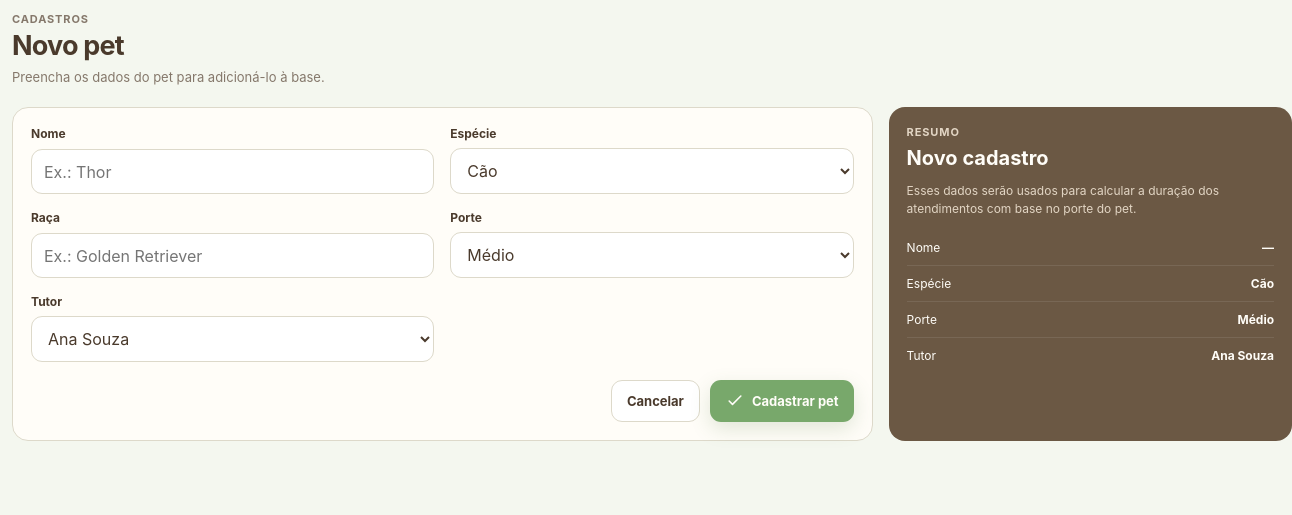
Test case: UI | NovoPetForm › deve enviar os dados corretos ao submeter e limpar nome/raça, mantendo a mensagem de sucesso
Type "Thor" into the field labelled "Nome". click: (233, 172)
box: x1=31 y1=149 x2=434 y2=194
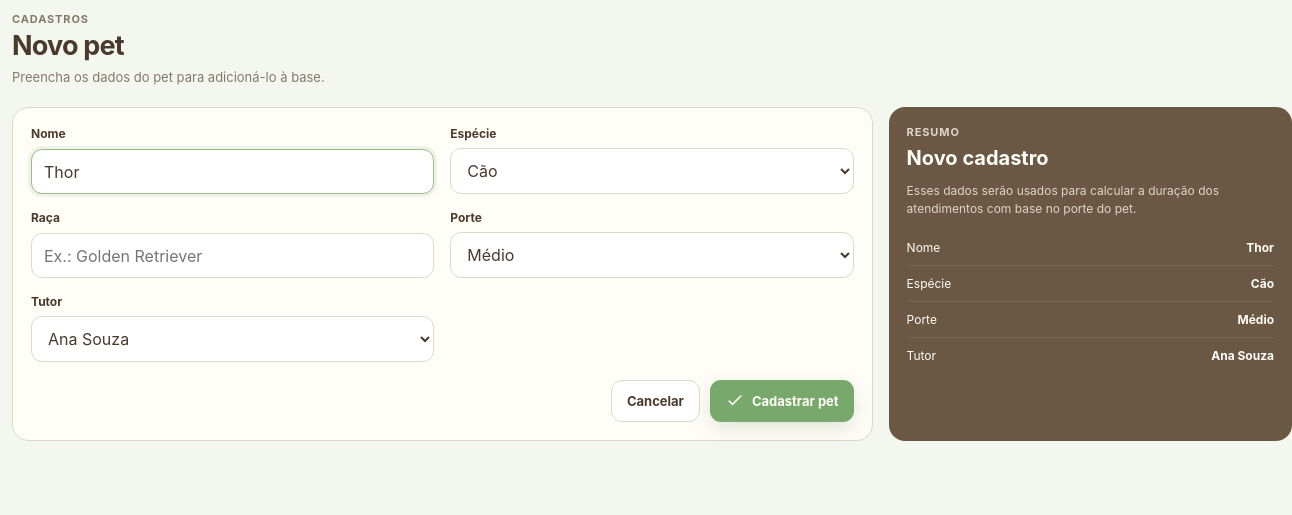
Select "Cão" in the dropdown labelled "Espécie". click: (652, 171)
box: x1=450 y1=148 x2=854 y2=194
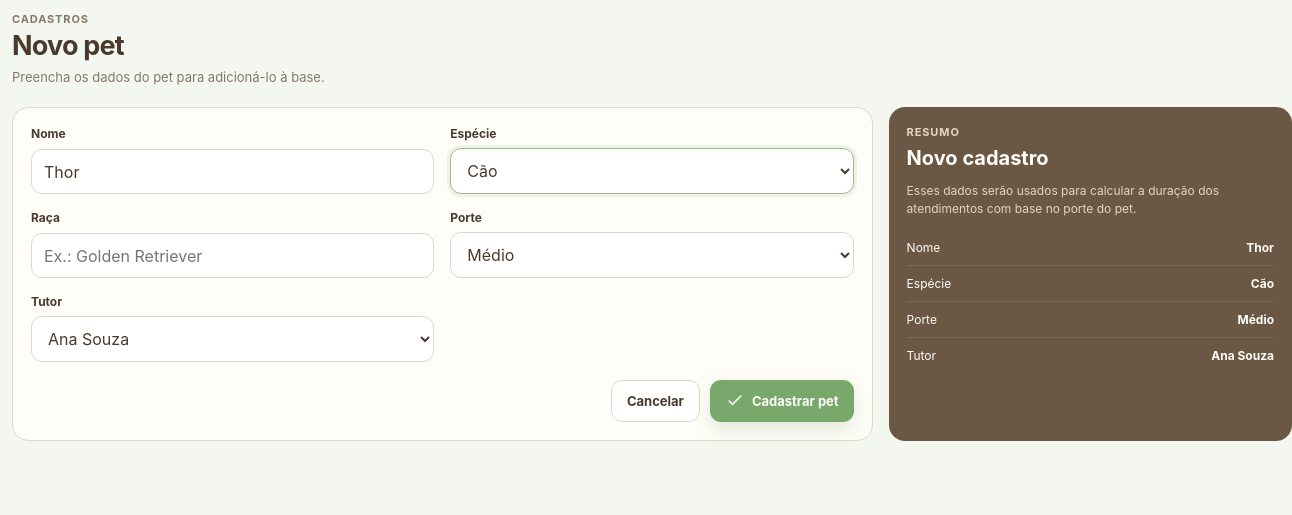
Type "Golden Retriever" into the field labelled "Raça". click: (233, 256)
box: x1=31 y1=233 x2=434 y2=278
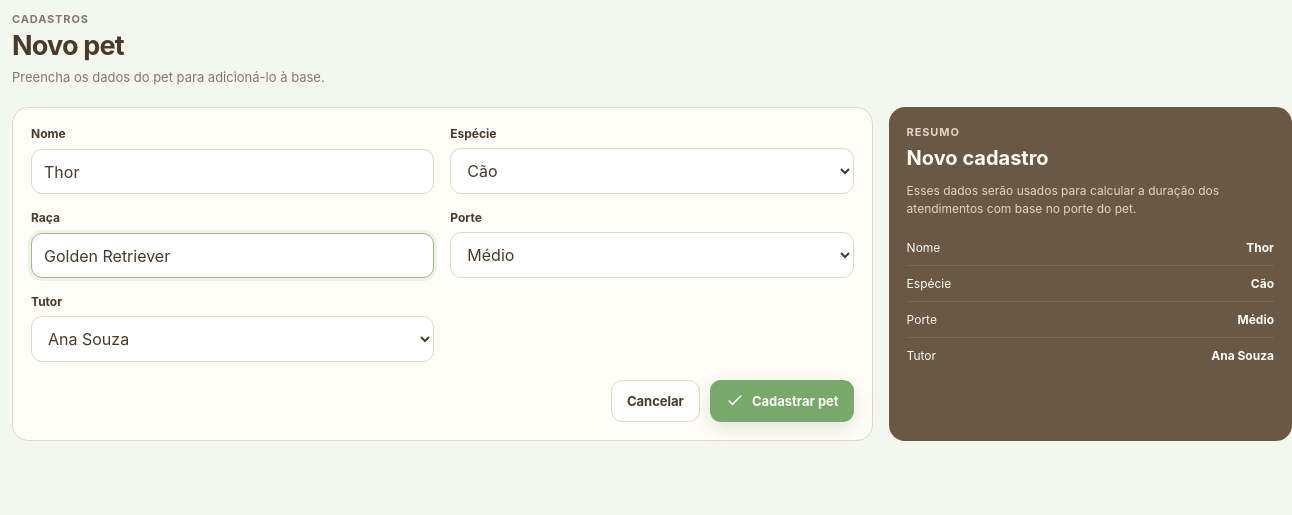
Select "Grande" in the dropdown labelled "Porte". click: (652, 255)
box: x1=450 y1=232 x2=854 y2=278
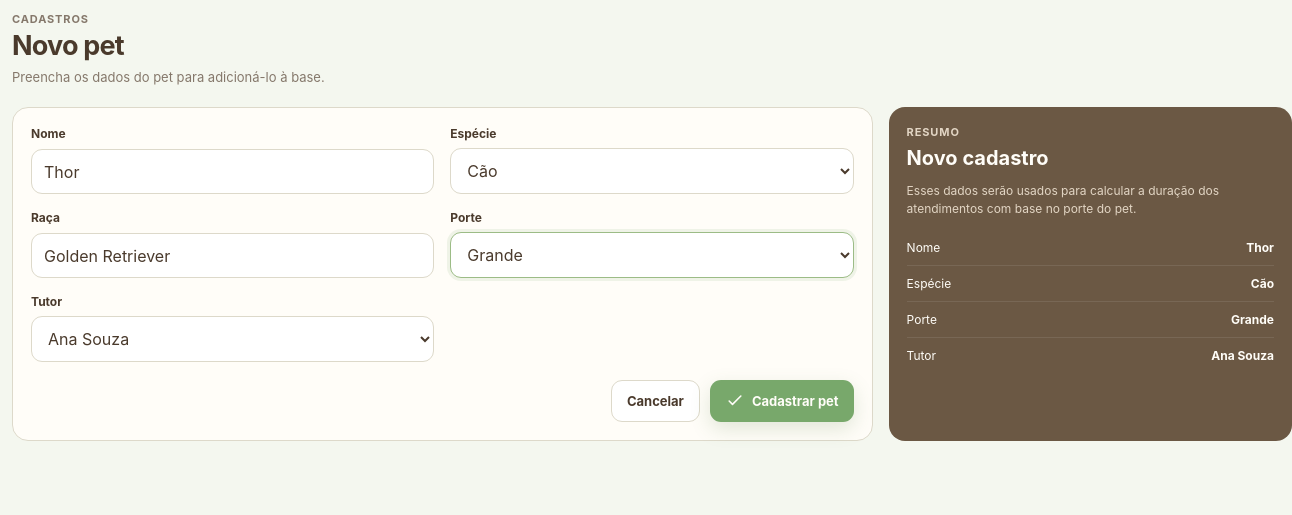
Select "Bruno Lima" in the dropdown labelled "Tutor". click: (233, 339)
box: x1=31 y1=316 x2=434 y2=362
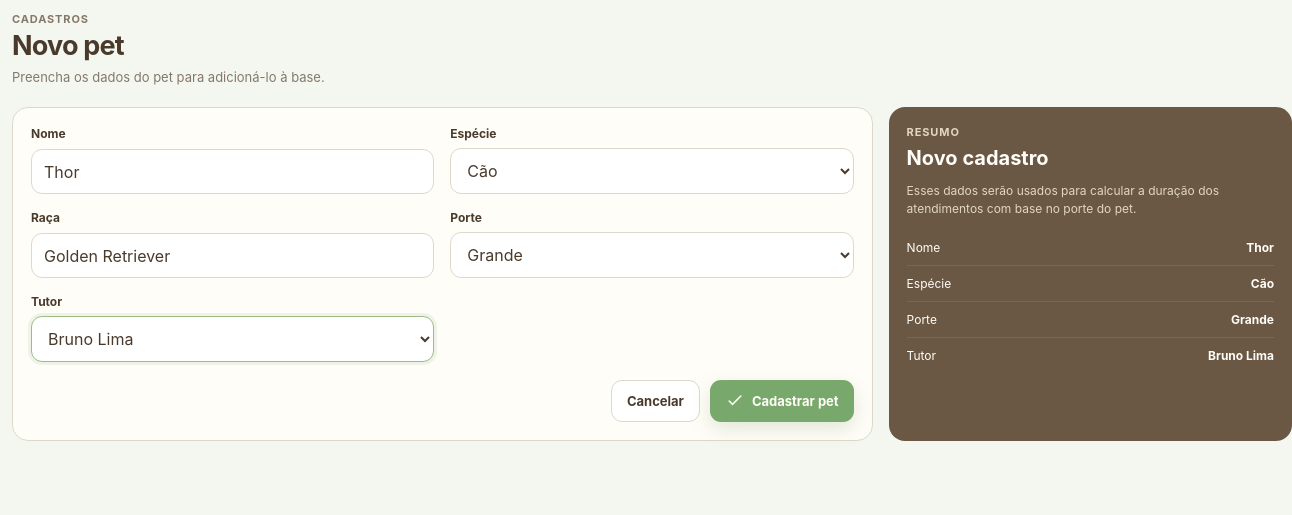
Click the button "Cadastrar pet". click: (782, 401)
box: x1=710 y1=380 x2=854 y2=422
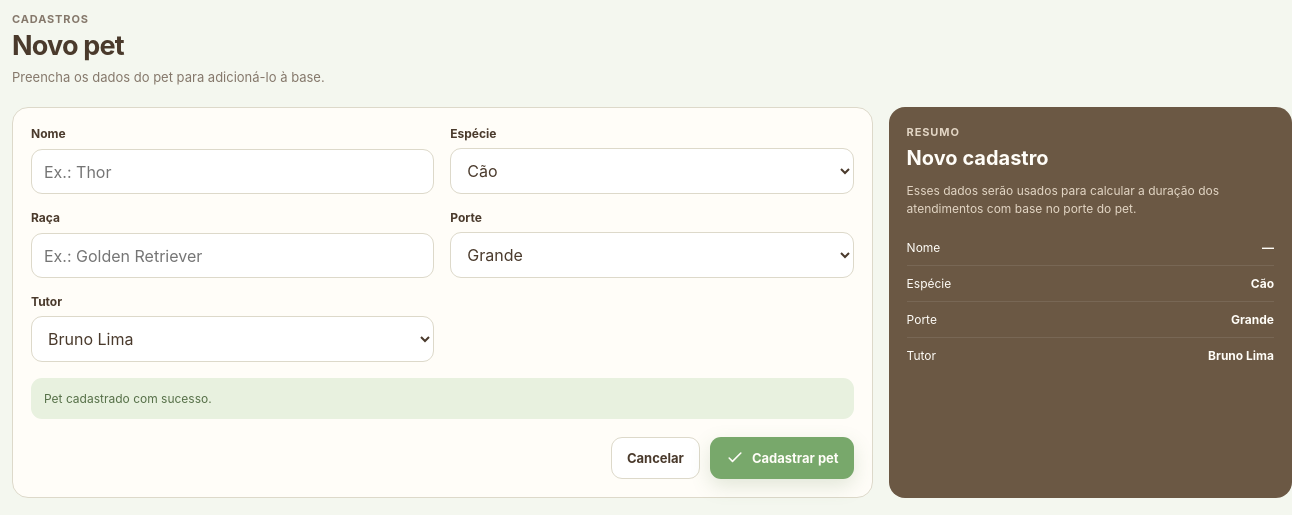
Expected: the text "Pet cadastrado com sucesso." is shown, x1=31 y1=378 x2=854 y2=419
Expected: the field labelled "Nome" is empty, x1=31 y1=149 x2=434 y2=194
Expected: the field labelled "Raça" is empty, x1=31 y1=233 x2=434 y2=278
